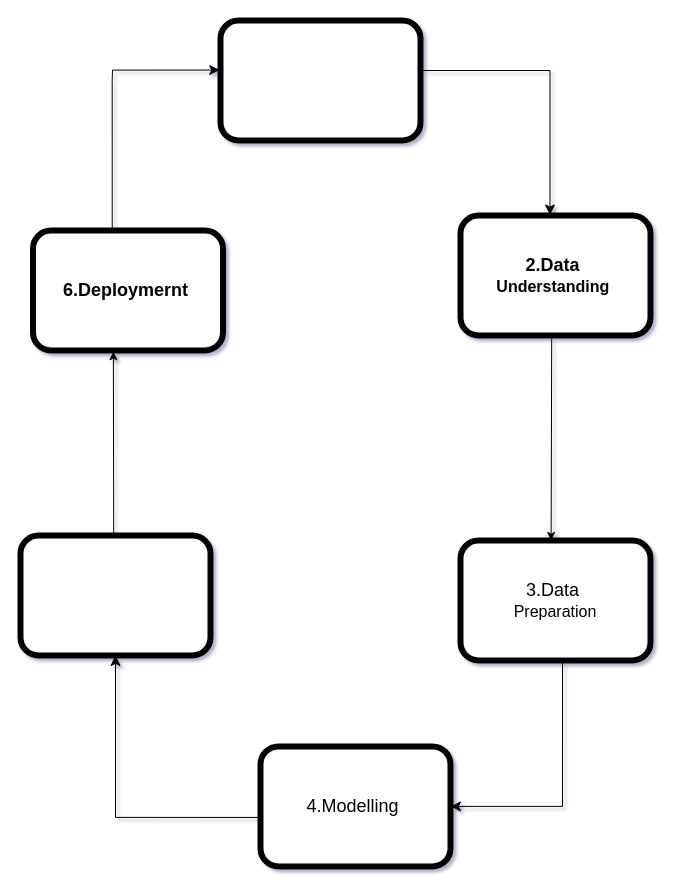
The diagram is 676 pixels wide and 892 high, and some of its shapes have lost their labels. Each missing label, with the box of its shape:
1.Business Understanding: (217, 17, 423, 143)
5.Evaluation: (17, 532, 213, 658)
